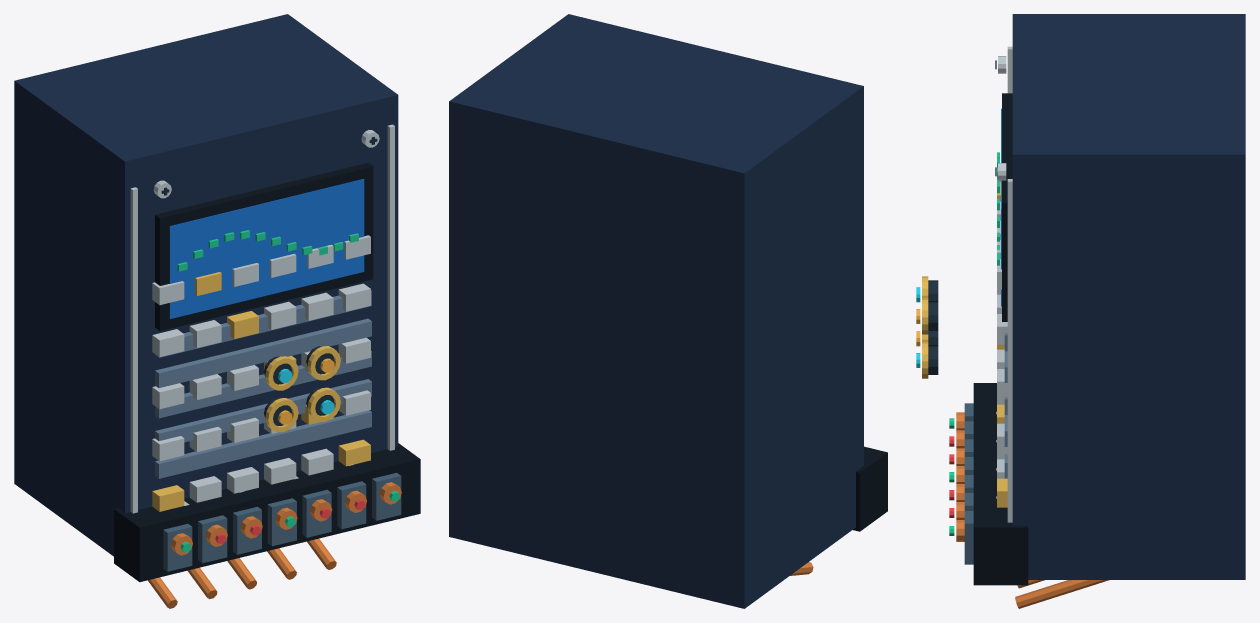
Rendered from 28_L83_PowerConditioningConverterB.fbx.
3 views of the same model, side by side, from view 1: azimuth 30°, elevation 25°; view 2: azimuth 150°, elevation 25°; view 3: azimuth 270°, elevation 25° (orthographic). The views are drawn at different scales.
Visible parts, largest first — view 1: PowerConditioningConverterB; view 2: PowerConditioningConverterB; view 3: PowerConditioningConverterB.
Boxes of the visible parts, left/top/right/bottom form: PowerConditioningConverterB: left=14, top=14, right=420, bottom=608; PowerConditioningConverterB: left=449, top=14, right=887, bottom=608; PowerConditioningConverterB: left=916, top=14, right=1245, bottom=608.
Bounding box in the file's own units: 113 × 177 × 109.
